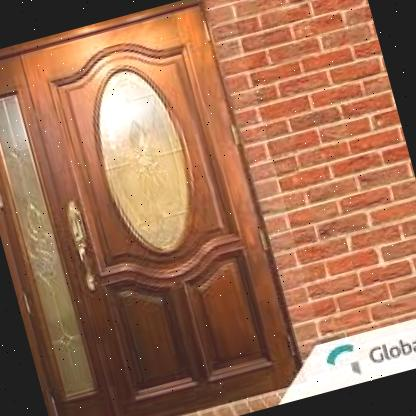door: (0, 0, 308, 416)
